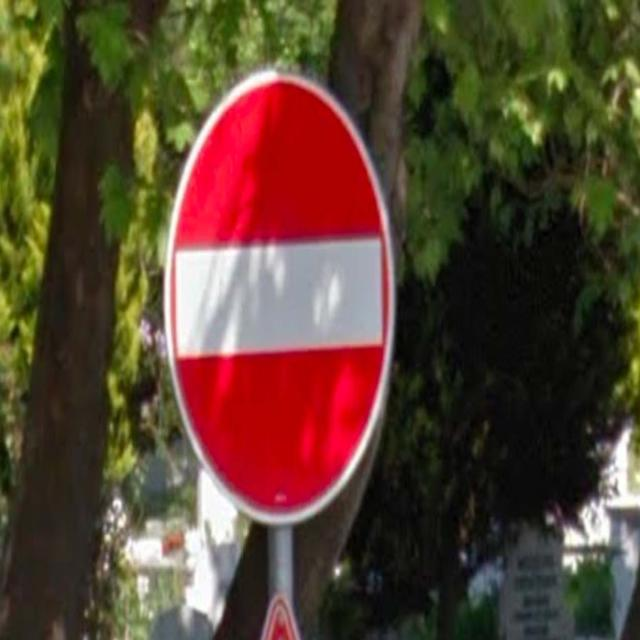girisyok: (164, 73, 394, 531)
